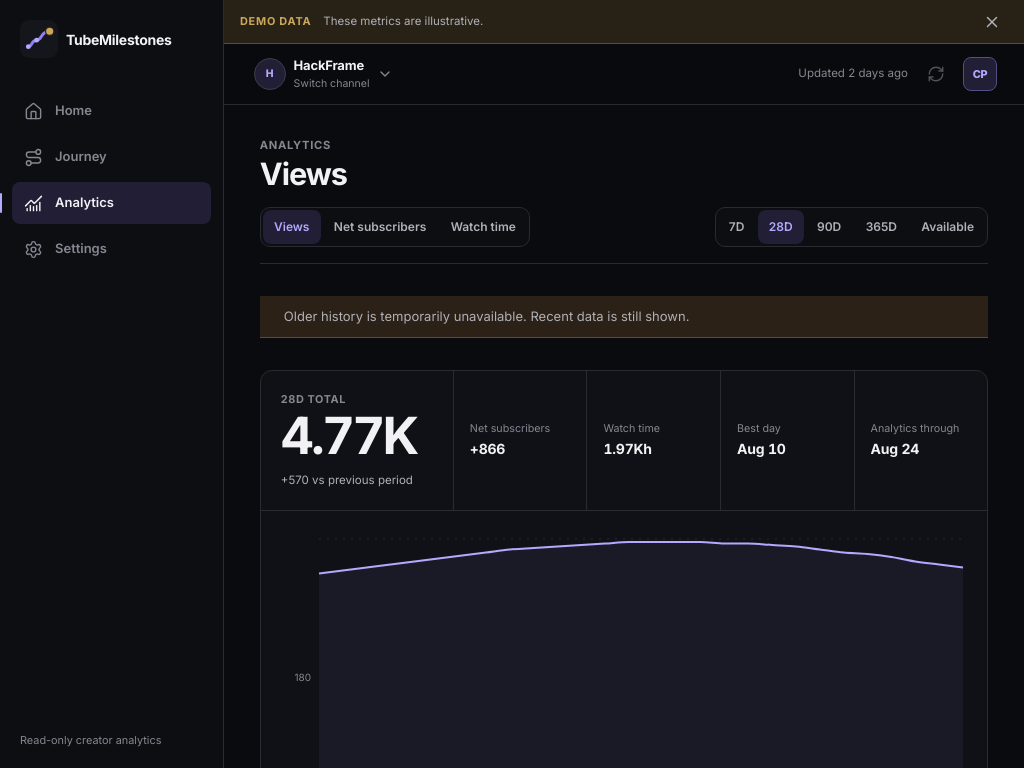
TubeMilestones cloud application states › keeps hot Analytics visible when archive history is partial
Check: the heading "Views" is shown, box [260, 155, 347, 192]
Click the button "365D" at (881, 226), box [854, 210, 908, 244]
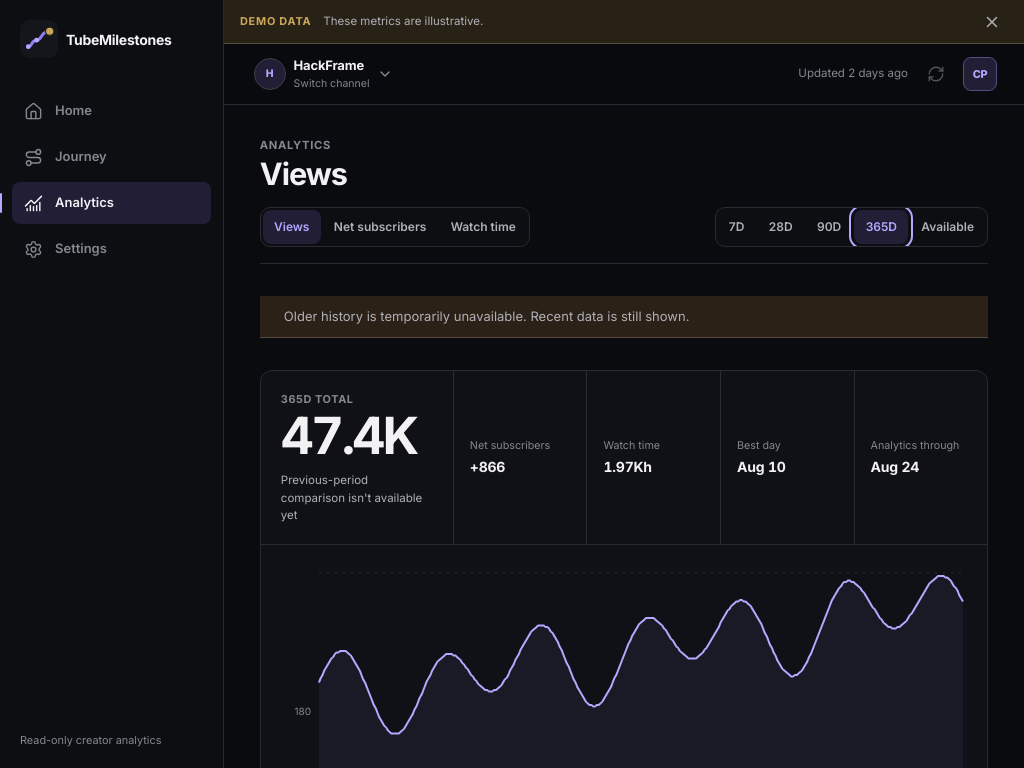
Check: the text "Older history is temporarily unavailable. Recent data is still shown." is shown, box [260, 296, 988, 338]
Check: the text "365D total" is shown, box [281, 392, 354, 406]
